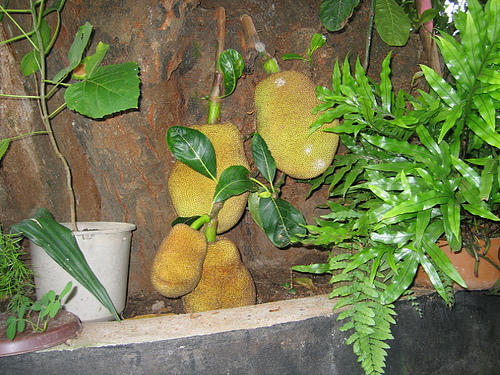jackfruit: (169, 100, 251, 235), (253, 56, 340, 180), (179, 232, 258, 312), (148, 214, 213, 301)
